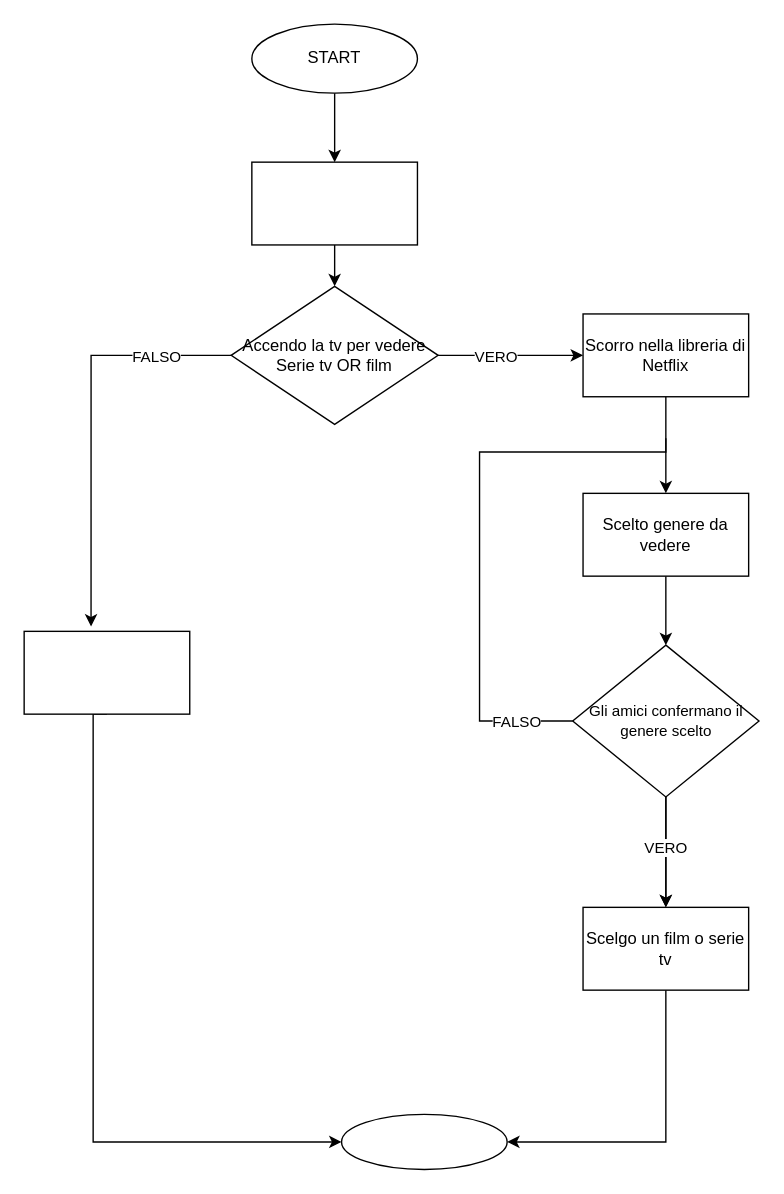
Some shapes in this 784 by 1194 pixel diagram are drawn without their labels. Here are the shapes that lost their labels. From the top down, the box of each, then its label:
(250, 161, 417, 245): Voglio utilizzare la tv per vedere netflix con gli amici
(23, 630, 190, 714): Spengo la tv
(340, 1113, 507, 1170): Fine
